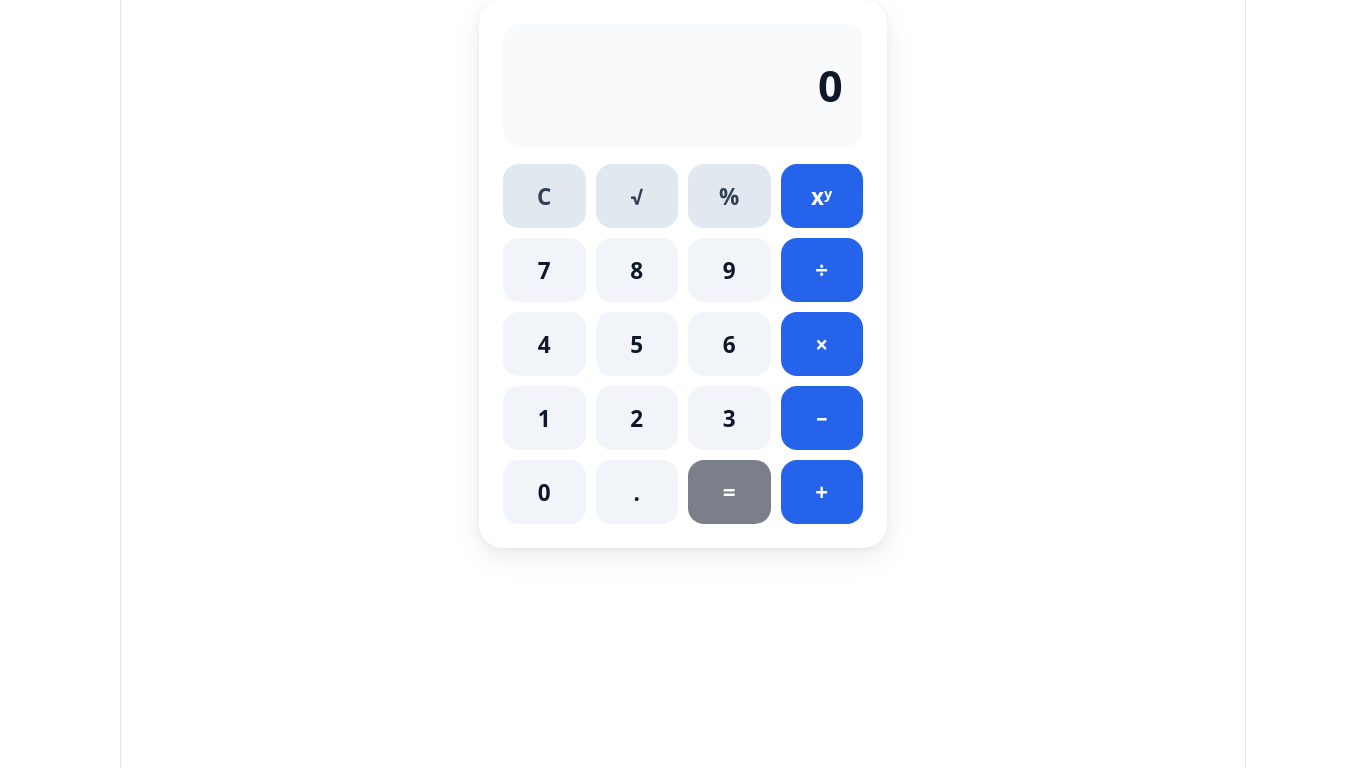
Scenario: Calculator › allows entering negative numbers directly
Click the button "−" at (822, 418), box [780,386,863,450]
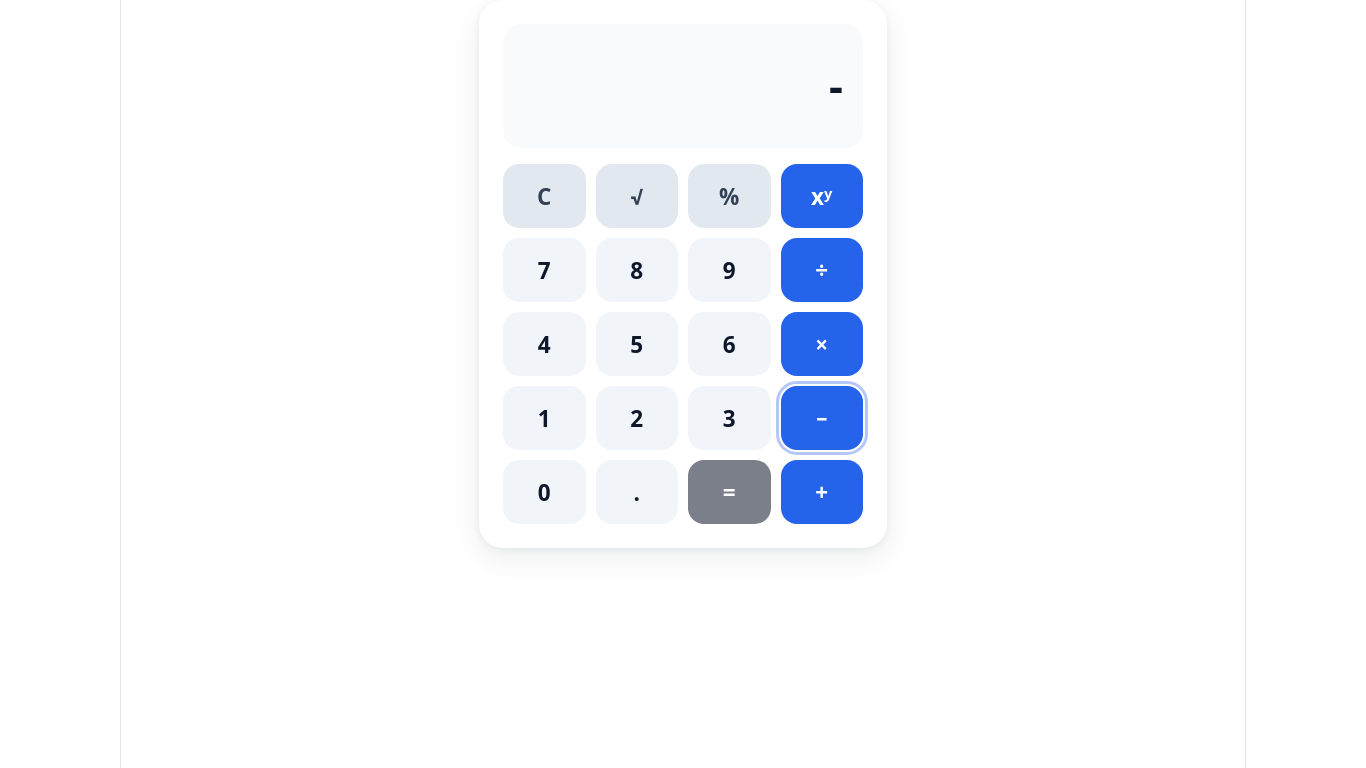
Click the button "2" at (637, 418), box [596,386,678,450]
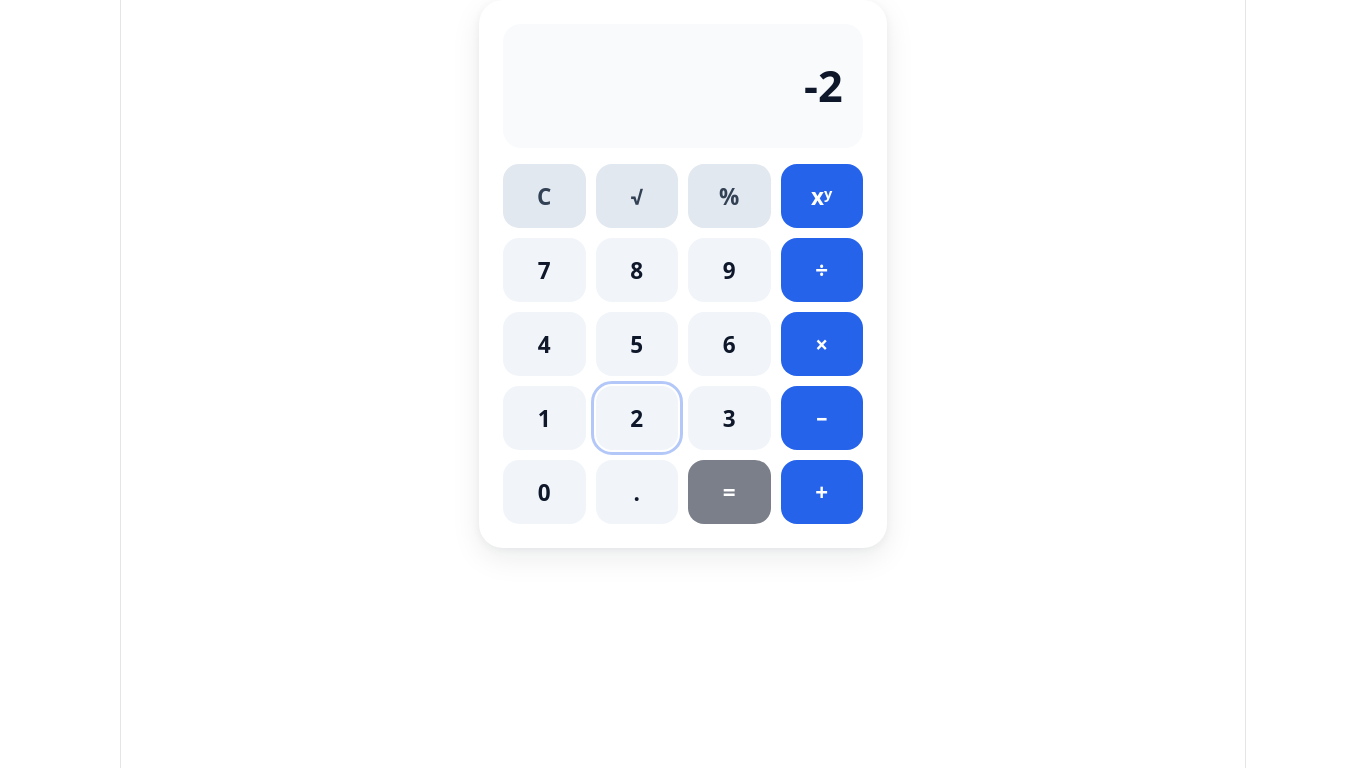
Result: the text with class "calculator-display" reads "-2" at [804,56,843,115]
